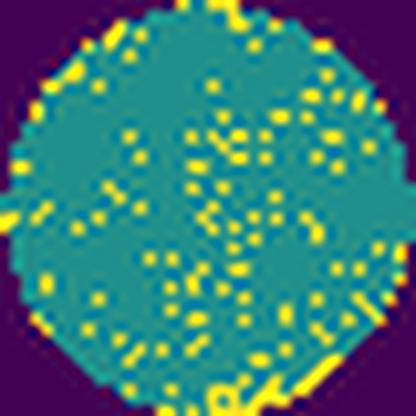Edge-Loc: (196, 347, 349, 416)
